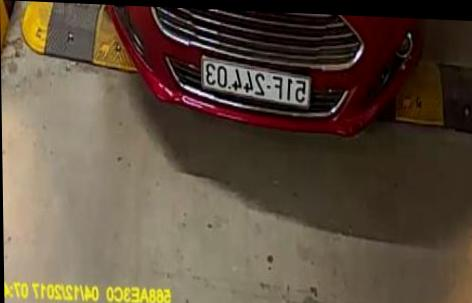License_Plate: (194, 62, 314, 109)
